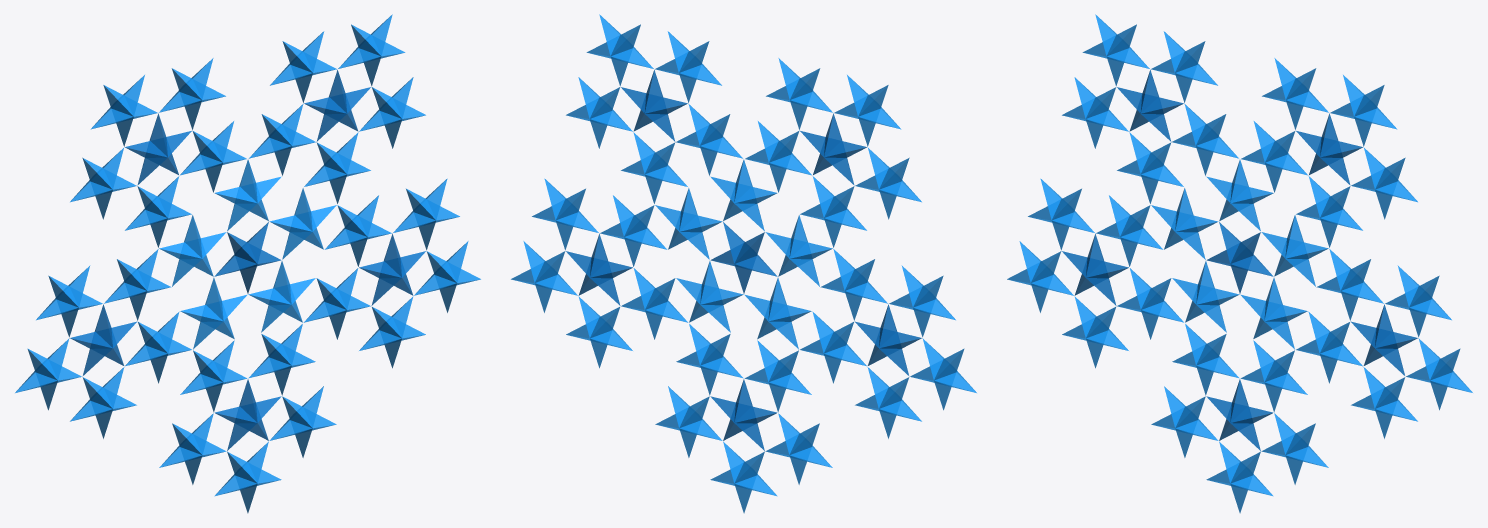
File: fractalpentagrammicdipyramid2.glb
3 renders of one model, left to right at view 1: azimuth 30°, elevation 25°; view 2: azimuth 150°, elevation 25°; view 3: azimuth 330°, elevation 25°, orthographic.
Size of the model in its own units: 11.62 by 11.05 by 0.8355.
